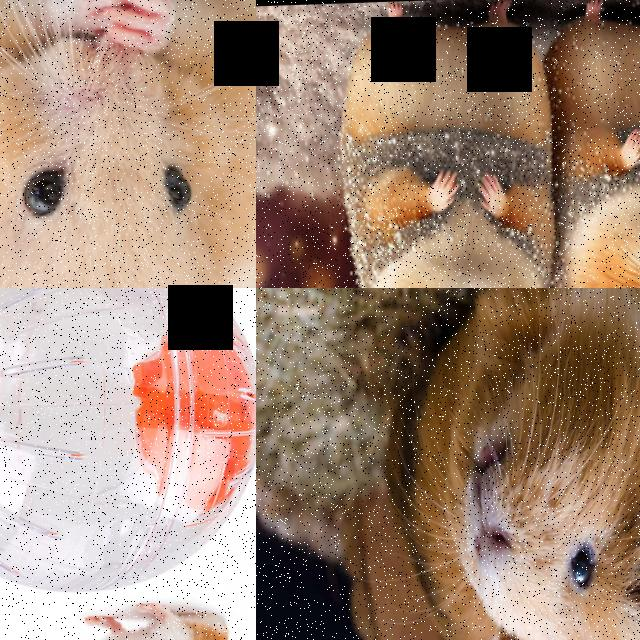hamster: (385, 288, 640, 640), (0, 0, 256, 288), (330, 0, 561, 288), (537, 0, 640, 288)
